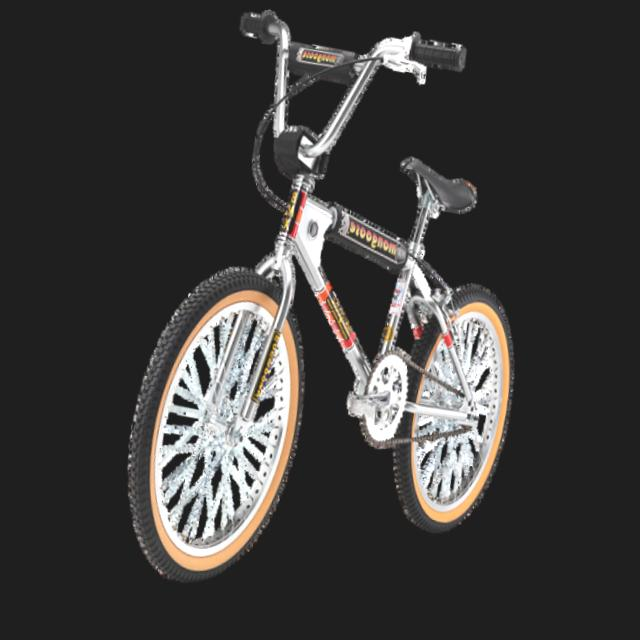bmx-bike: (82, 1, 582, 640)
